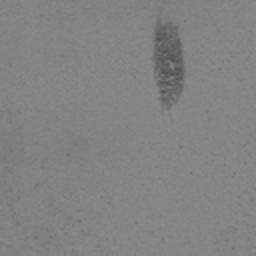Oxide scale of plate system: (153, 18, 185, 109)
